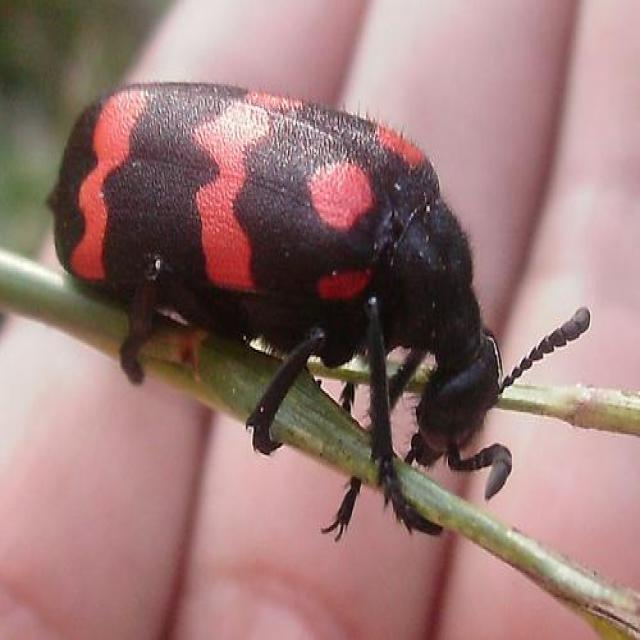BlisterBeetle-Adult-: (45, 76, 598, 556)
